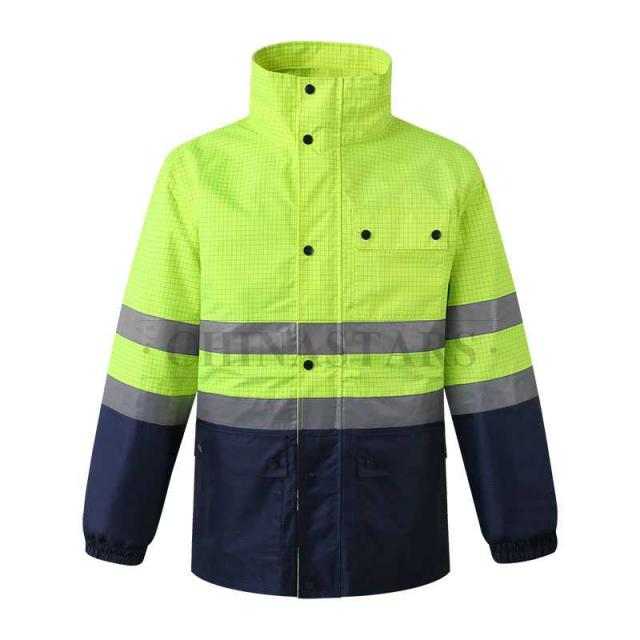Reflective-Jacket: (83, 34, 592, 629)
